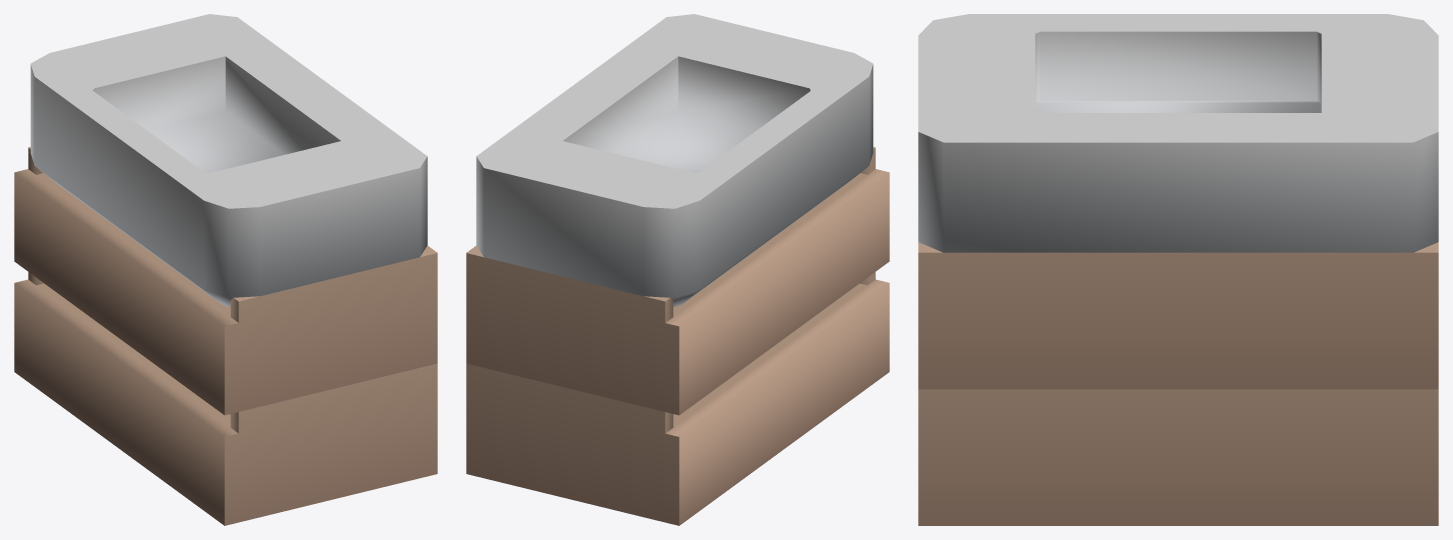
The model's file is sink-hanging-cabinets (%wall).glb.
3 renders of one model, left to right at view 1: azimuth 30°, elevation 25°; view 2: azimuth 150°, elevation 25°; view 3: azimuth 270°, elevation 25°, orthographic. The views are drawn at different scales.
Parts seen in each view (by area): view 1: sink-hanging-cabinets (%wall); view 2: sink-hanging-cabinets (%wall); view 3: sink-hanging-cabinets (%wall).
Part boxes in pixels (x1=…): sink-hanging-cabinets (%wall): x1=14, y1=14, x2=437, y2=525; sink-hanging-cabinets (%wall): x1=466, y1=14, x2=889, y2=525; sink-hanging-cabinets (%wall): x1=918, y1=14, x2=1438, y2=525.
Bounding box in the file's own units: 0.4037 × 0.5615 × 0.6905.
